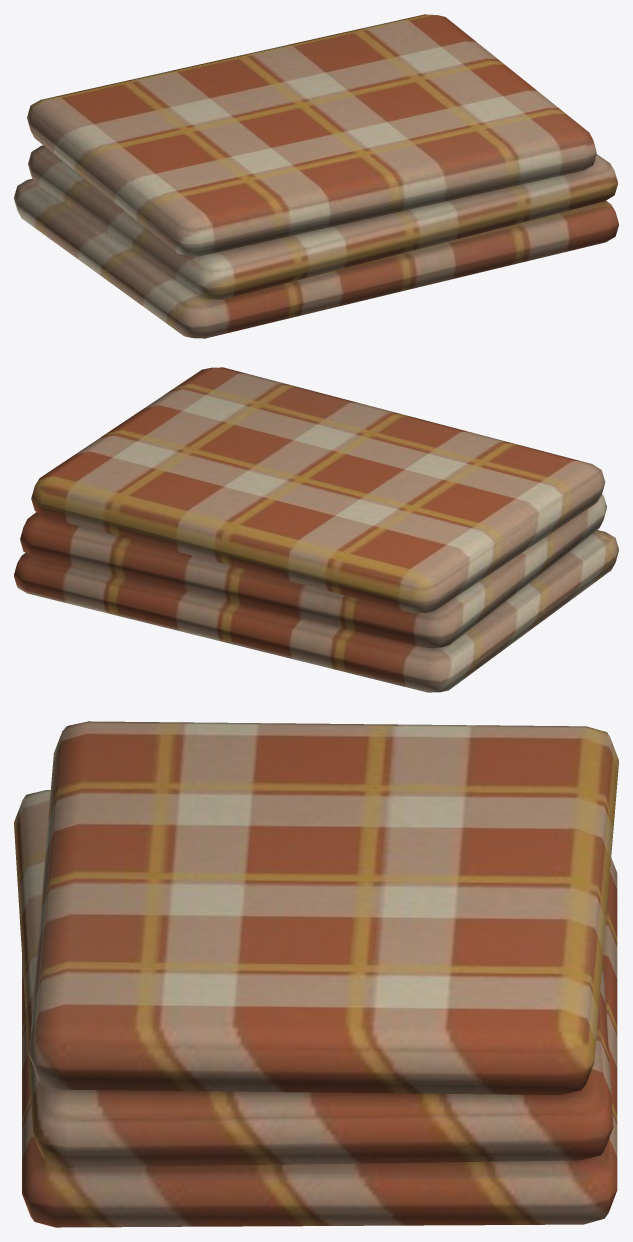
File: fm_blanket_wool_folded.glb
The picture shows the model from 3 angles, top to bottom: view 1: azimuth 30°, elevation 25°; view 2: azimuth 150°, elevation 25°; view 3: azimuth 270°, elevation 25°; orthographic projection. The views are drawn at different scales.
Visible parts, largest first — view 1: fm_blanket_wool_folded; view 2: fm_blanket_wool_folded; view 3: fm_blanket_wool_folded.
Part boxes in pixels (x1,y1,x2,y2): fm_blanket_wool_folded: (14, 14, 618, 338); fm_blanket_wool_folded: (14, 367, 618, 692); fm_blanket_wool_folded: (14, 721, 618, 1227).
Bounding box in the file's own units: 0.5529 × 0.1405 × 0.4065.
1 material, 1 textured.
